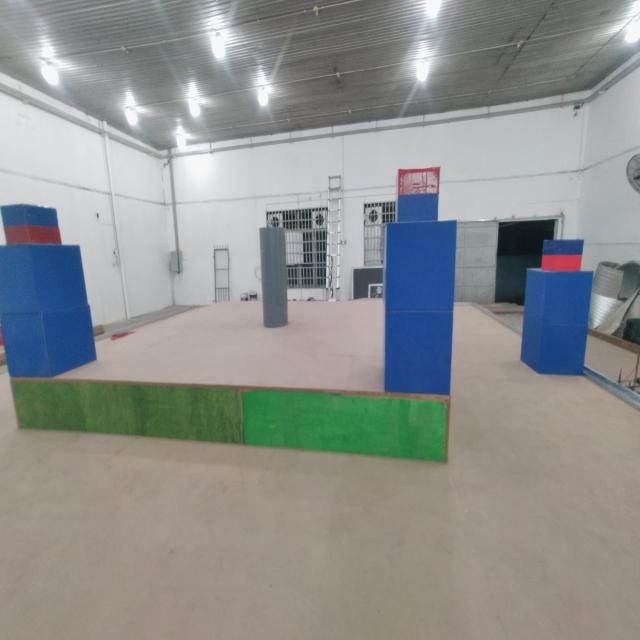earth_block: (380, 220, 458, 310), (0, 307, 101, 376), (378, 308, 456, 392), (0, 245, 90, 308), (522, 268, 596, 326)
sky_block: (393, 167, 443, 221), (1, 204, 66, 242), (540, 238, 588, 268)
